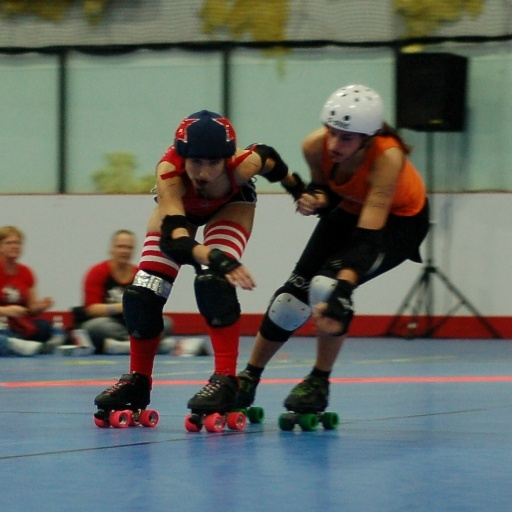hand: (308, 295, 353, 337), (217, 257, 254, 289), (294, 189, 327, 216), (5, 303, 28, 319), (288, 183, 312, 198), (36, 295, 53, 309)
